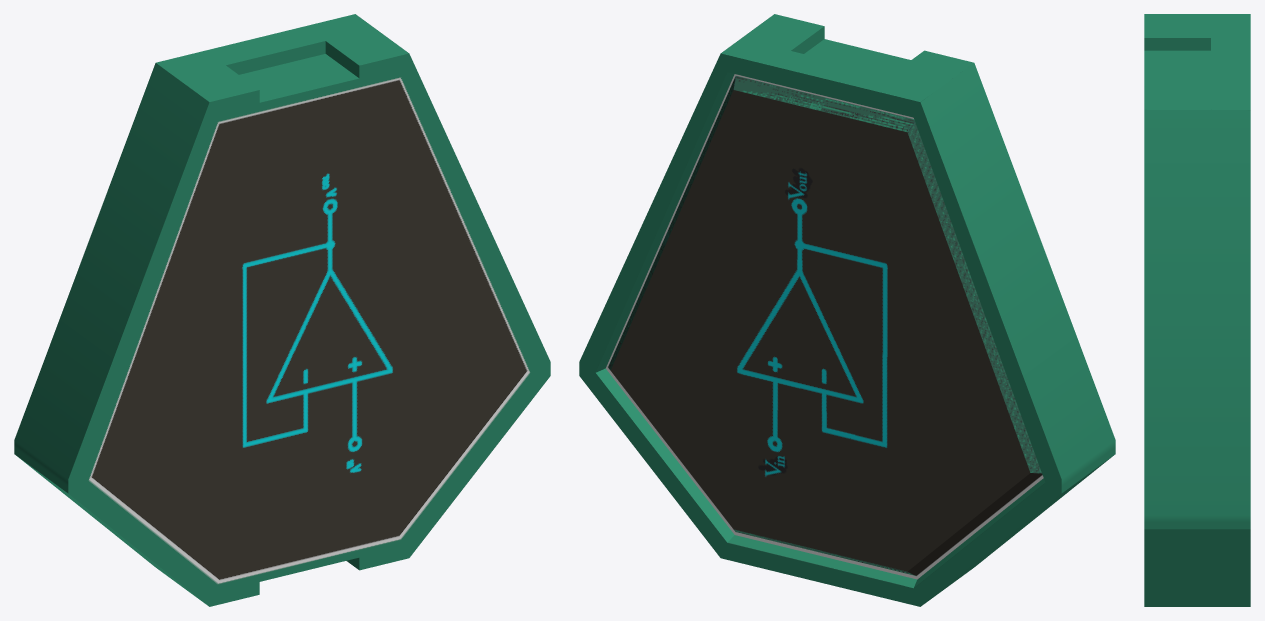
The picture shows the model from 3 angles, left to right: view 1: azimuth 30°, elevation 25°; view 2: azimuth 150°, elevation 25°; view 3: azimuth 270°, elevation 25°; orthographic projection.
Parts seen in each view (by area): view 1: OZ_Buffer; view 2: OZ_Buffer; view 3: OZ_Buffer.
Part boxes in pixels (box(x1,y1,x2,y2)): OZ_Buffer: box(14, 14, 550, 606); OZ_Buffer: box(579, 14, 1115, 606); OZ_Buffer: box(1144, 14, 1250, 606).
Size of the model in its own units: 0.4991 by 0.4991 by 0.0967.
Materials: 1 (1 with a texture image).
